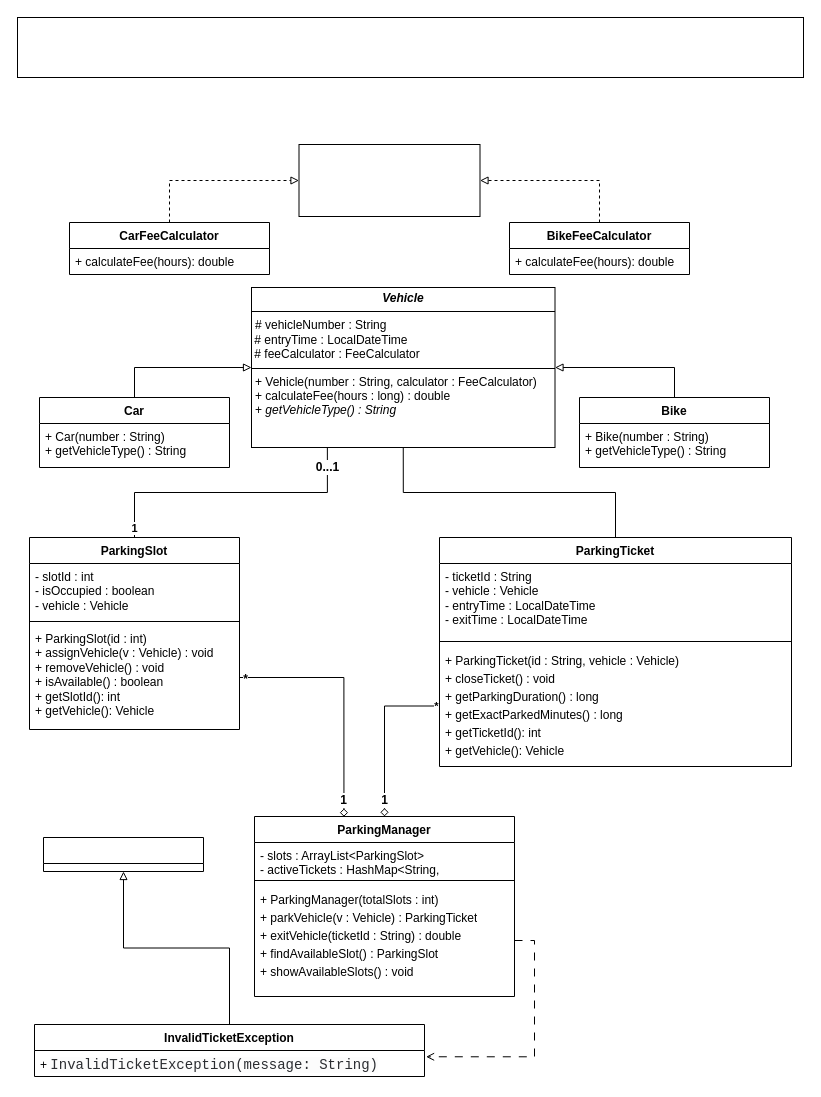
This 821x1097 diagram has some shape labels left out. Each missing label, with the centre of its shape:
<<Interface>> FeeCalculator + calculateFee(hours): double: (389,180)
Exception: (123,854)
Smart Parking System UML: (410,47)
